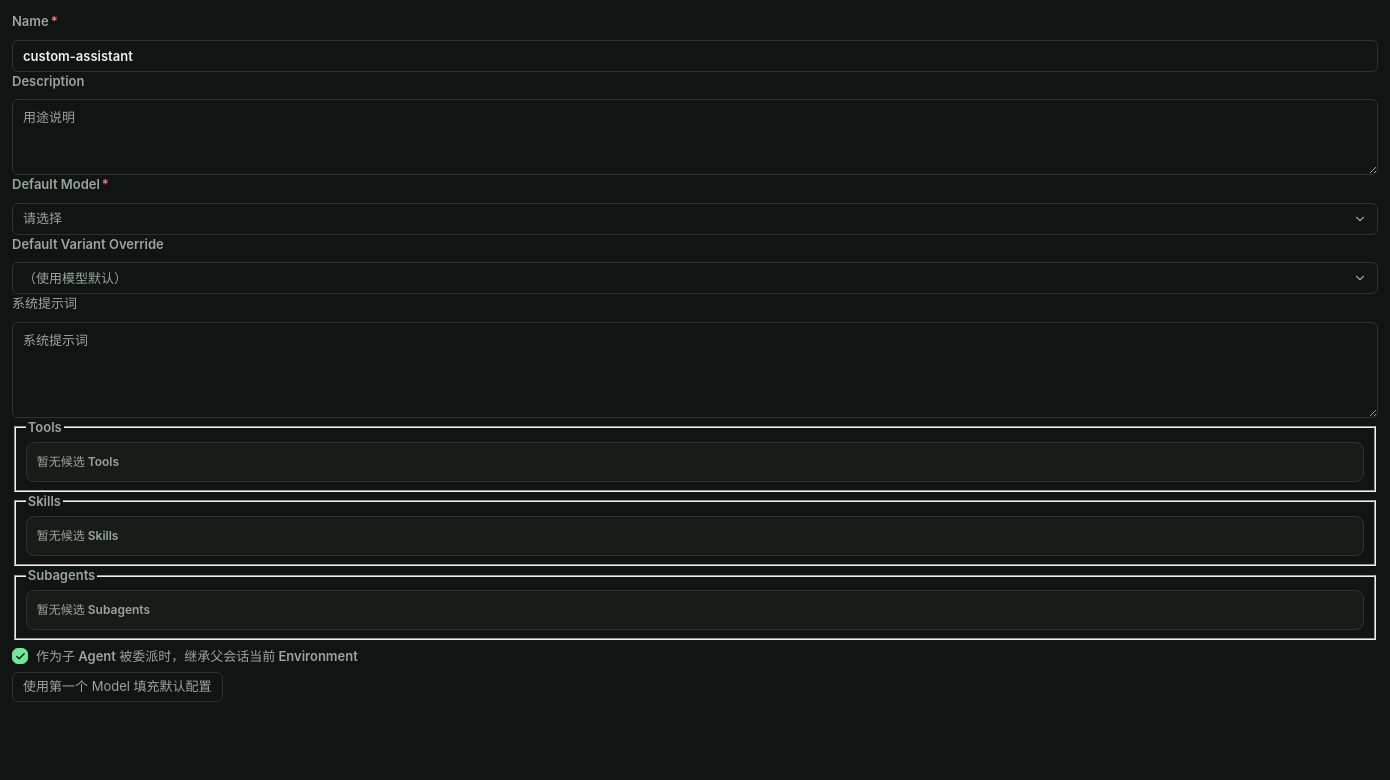
Scenario: AgentForm current contracts › shows fillFirstModel and marks model as required for USER agent drafts
Click the button "使用第一个 Model 填充默认配置" at (117, 687), box [12,672,222,702]
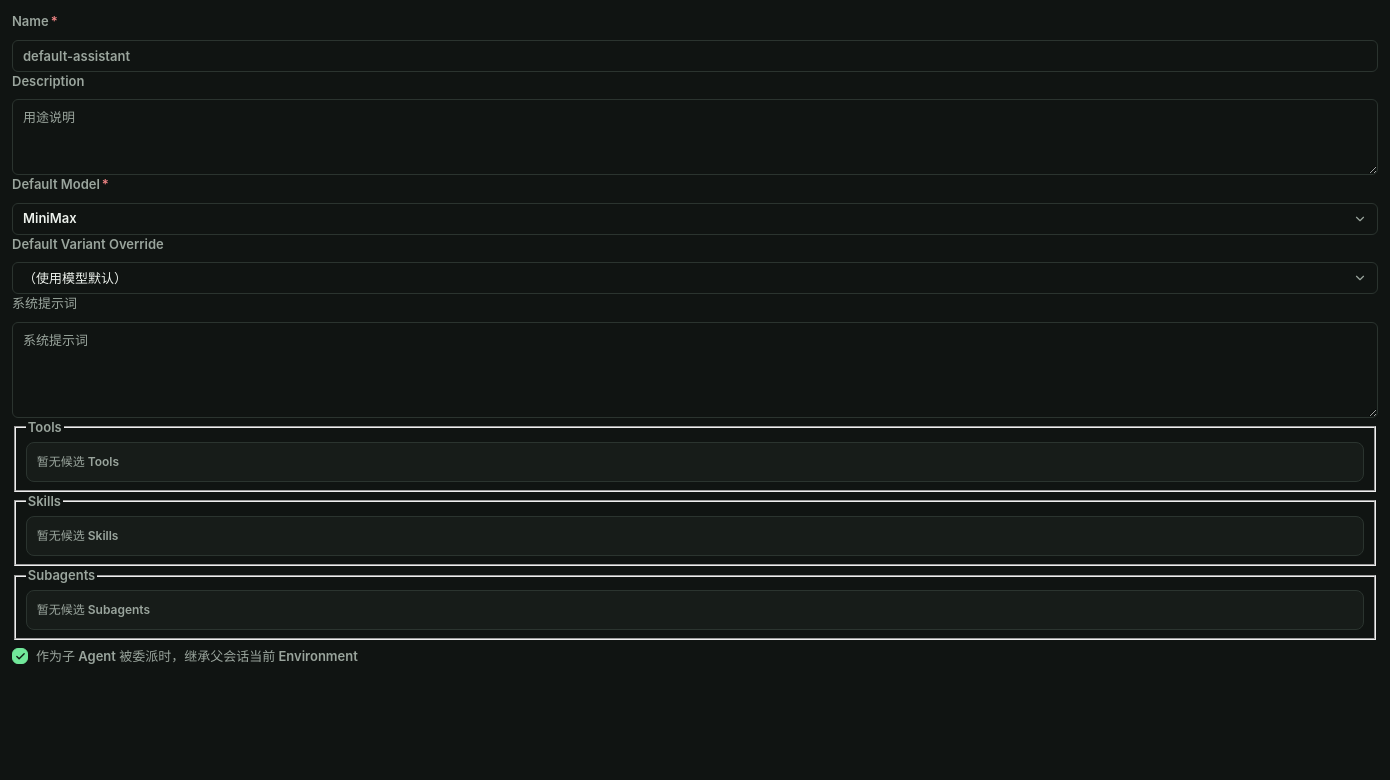
Expected: the text "MiniMax" is shown, [23,212,77,225]
